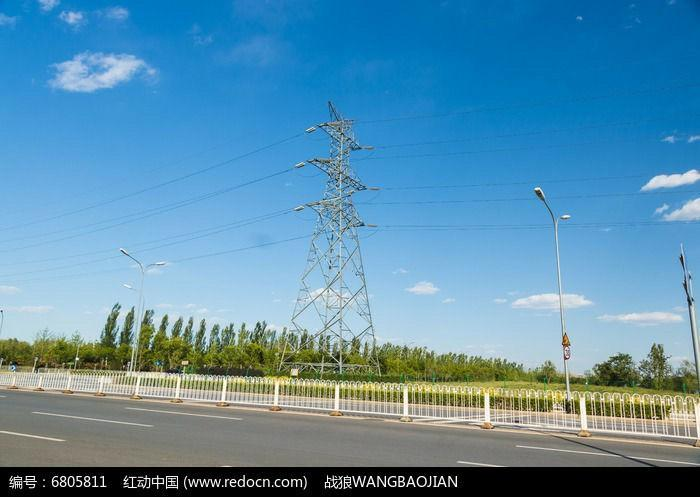power_tower: (281, 97, 386, 379)
